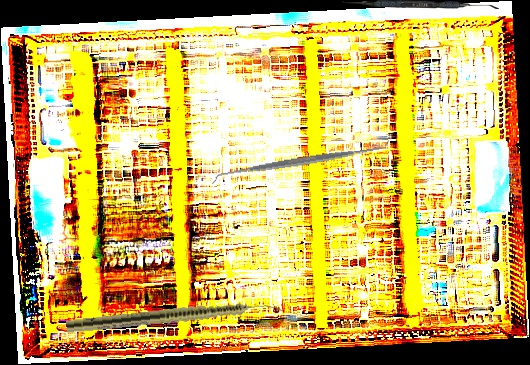Handpiece: (65, 296, 283, 337)
Spatula Surgical: (209, 137, 392, 187), (342, 0, 499, 9)
